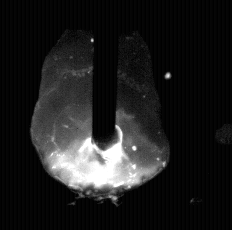arame: (93, 0, 118, 151)
poca: (30, 0, 166, 230)
